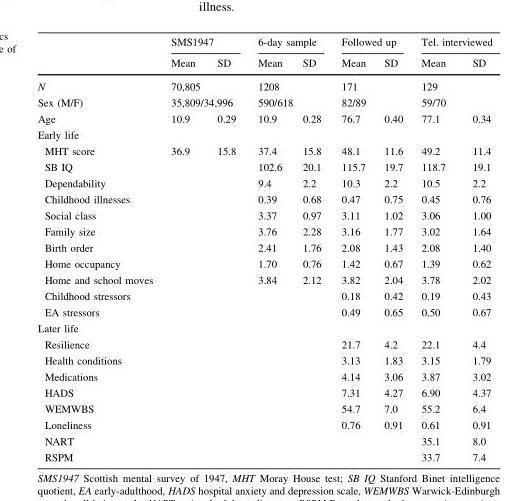table: (36, 36, 491, 462)
table column: (36, 36, 161, 462), (411, 36, 458, 462), (246, 36, 291, 462), (161, 36, 205, 462), (330, 36, 374, 462), (205, 36, 246, 462), (291, 36, 330, 462), (374, 36, 411, 462), (458, 36, 491, 462)
table column header: (36, 36, 491, 74)
table projected row header: (36, 126, 491, 143), (36, 320, 491, 336)
table row: (36, 52, 491, 74), (36, 74, 491, 94), (36, 126, 491, 143), (36, 255, 491, 272), (36, 384, 491, 401), (36, 36, 491, 52), (36, 94, 491, 110), (36, 110, 491, 126), (36, 143, 491, 159), (36, 159, 491, 175), (36, 175, 491, 191), (36, 191, 491, 207), (36, 207, 491, 223), (36, 223, 491, 239), (36, 239, 491, 255), (36, 272, 491, 288), (36, 288, 491, 304), (36, 304, 491, 320), (36, 320, 491, 336), (36, 336, 491, 352), (36, 352, 491, 368), (36, 368, 491, 384), (36, 401, 491, 417), (36, 417, 491, 433), (36, 433, 491, 449), (36, 449, 491, 462)
table spanning cell: (161, 74, 246, 94), (246, 74, 330, 94), (330, 74, 411, 94), (411, 74, 491, 94), (161, 36, 246, 52), (161, 94, 246, 110), (246, 36, 330, 52), (246, 94, 330, 110), (330, 36, 411, 52), (330, 94, 411, 110), (411, 36, 491, 52), (411, 94, 491, 110)
